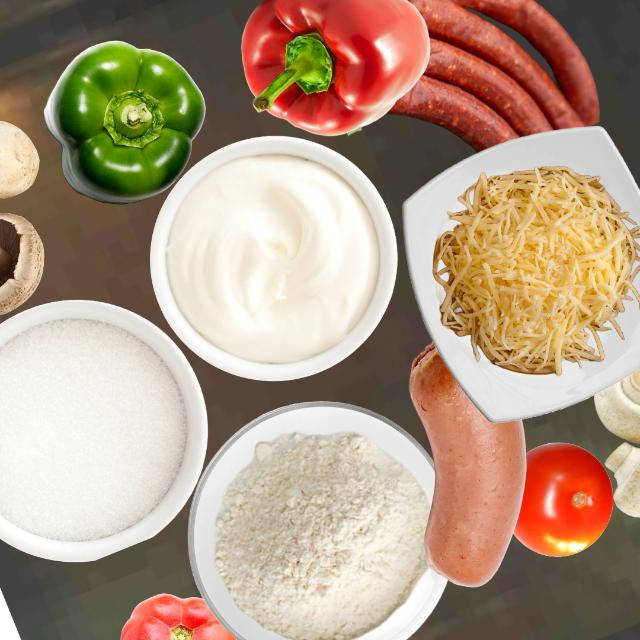Flour: (213, 430, 430, 638)
Sugar: (0, 316, 186, 541)
